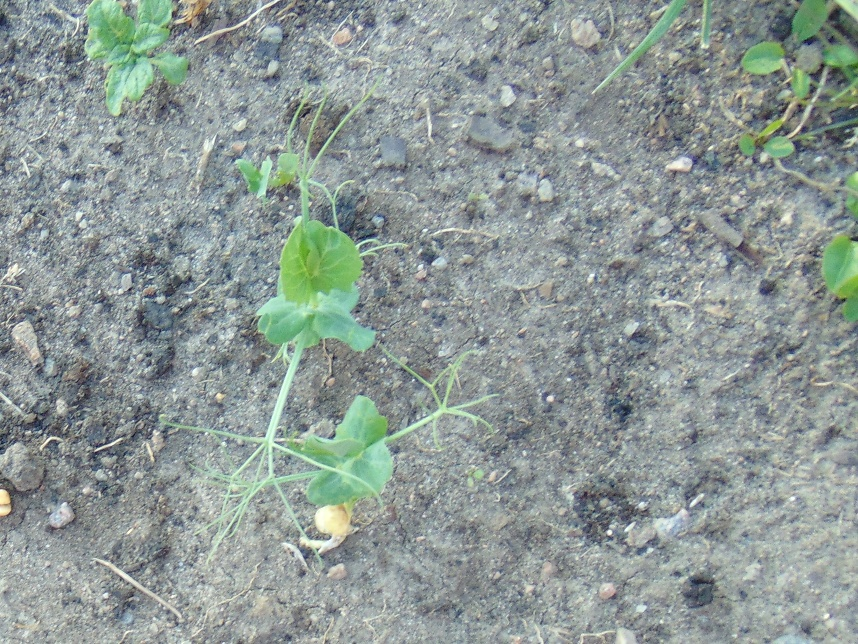crop: (214, 122, 476, 537)
weed: (734, 1, 858, 160), (81, 1, 192, 116), (820, 170, 858, 328)
